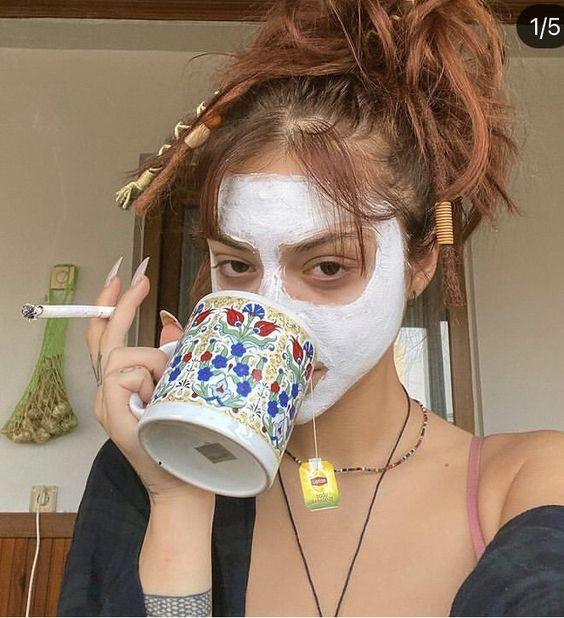cigarette: (20, 303, 115, 322)
